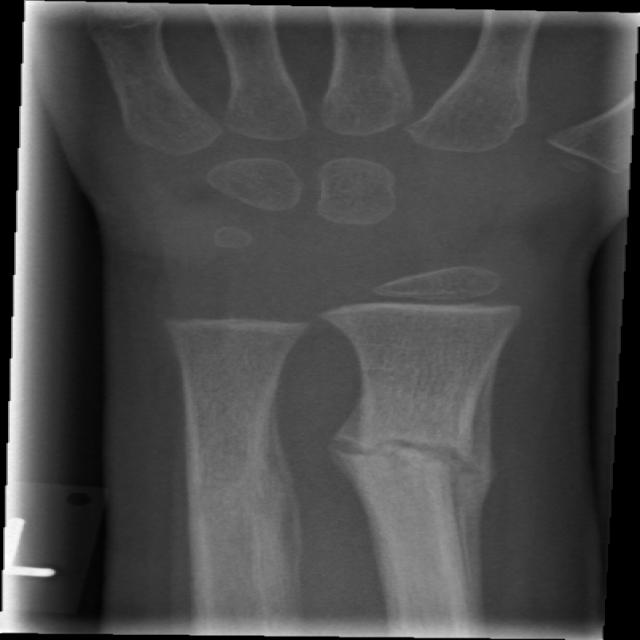radius fracture: (310, 379, 516, 580)
ulna fracture: (165, 402, 336, 613)
